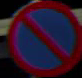No waiting: (3, 1, 77, 69)
